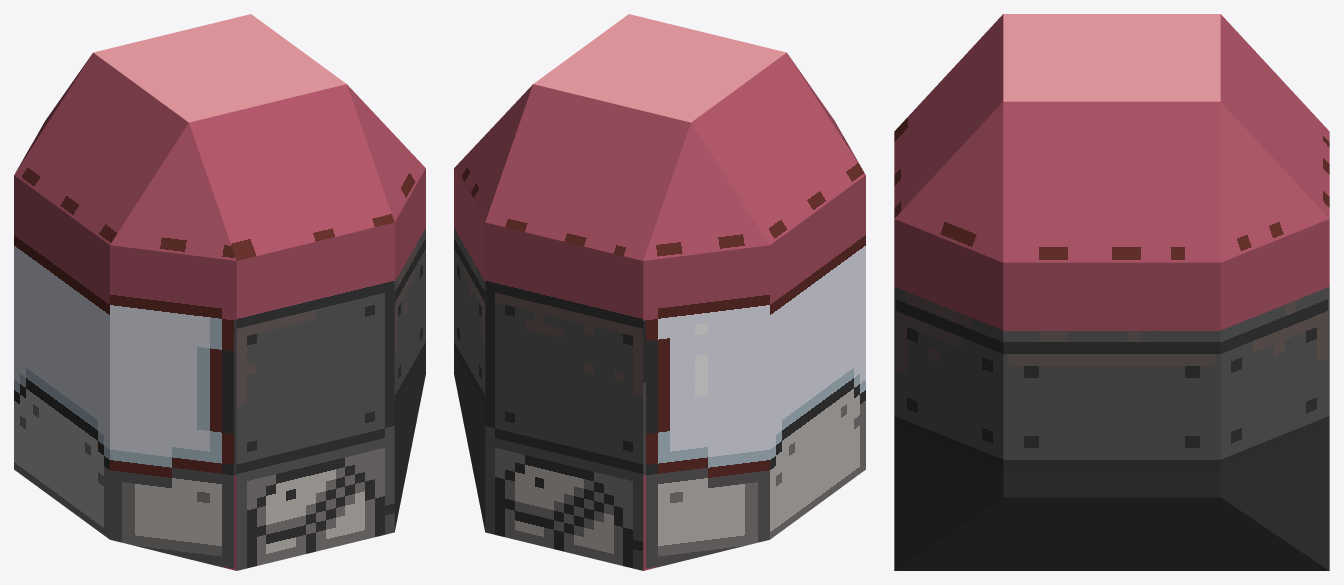
File: MeleeHead.gltf
3 renders of one model, left to right at view 1: azimuth 30°, elevation 25°; view 2: azimuth 150°, elevation 25°; view 3: azimuth 270°, elevation 25°, orthographic. The views are drawn at different scales.
Parts seen in each view (by area): view 1: Head; view 2: Head; view 3: Head.
Boxes of the visible parts, x1,y1,x2,y2 form: Head: (14,14,425,570); Head: (454,14,865,570); Head: (894,14,1329,570).
Bounding box in the file's own units: 0.25 × 0.3125 × 0.2625.
1 material, 1 textured.
